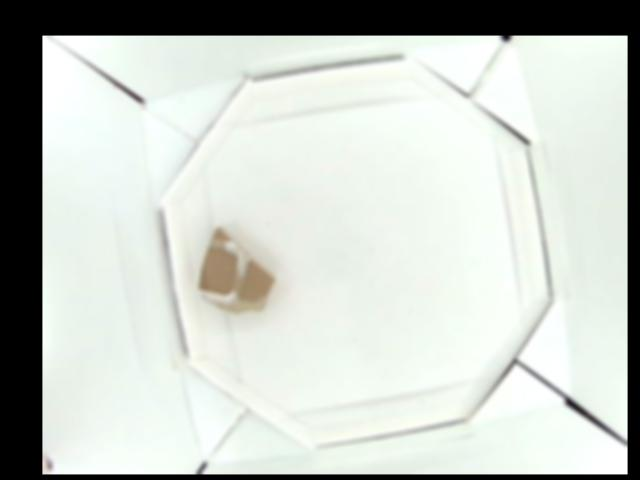China: (197, 228, 275, 315)
